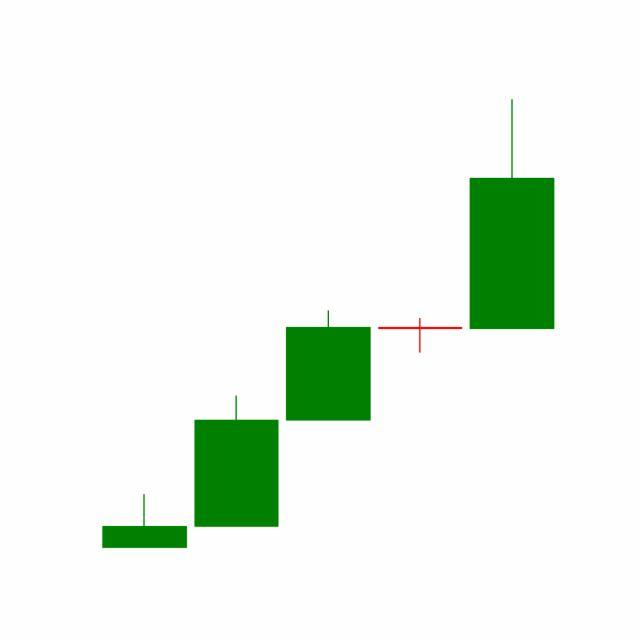Spinning Top: (374, 318, 468, 355)
